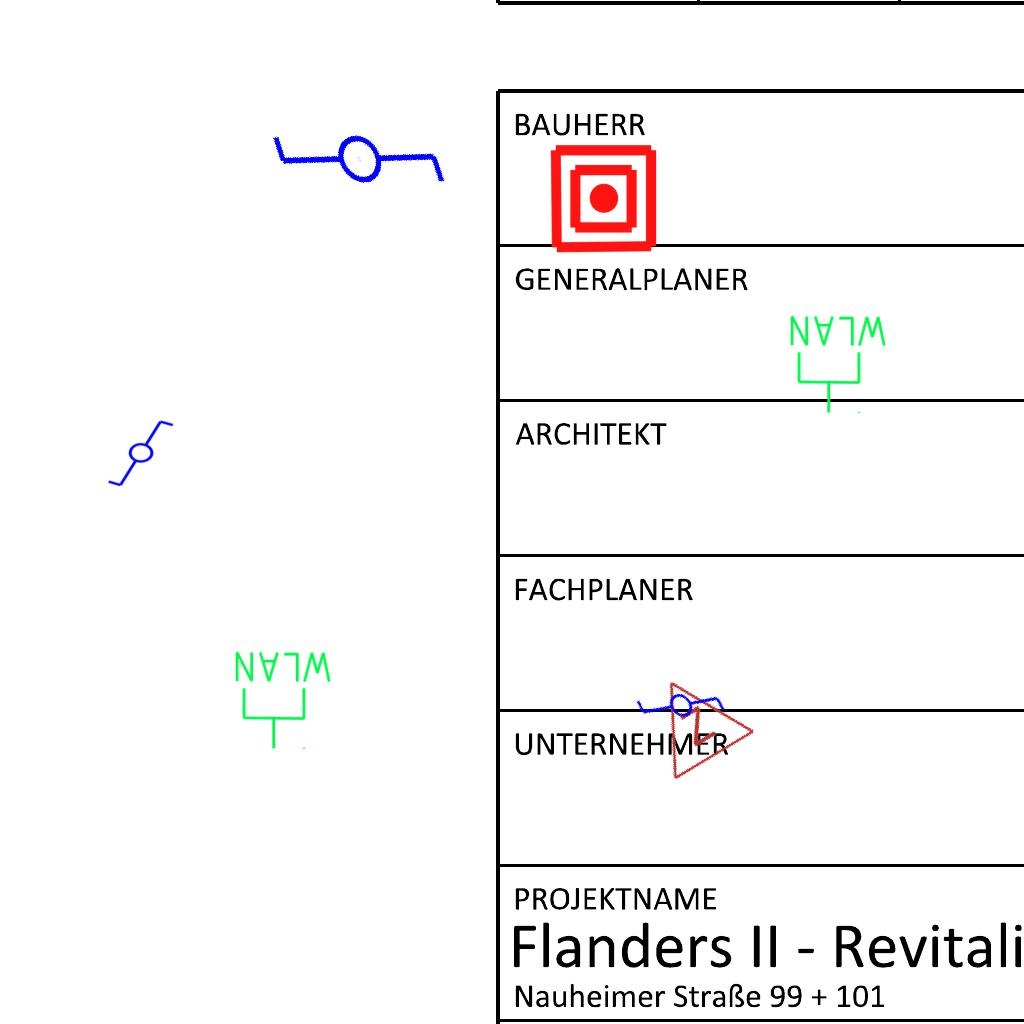NAM-Nichtautomatischer_Melder: (547, 142, 660, 255)
WLAN: (231, 648, 336, 752), (786, 312, 891, 416)
Wechselschalter: (258, 61, 467, 273), (630, 655, 736, 763), (106, 418, 184, 490)
Zimmersignalleuchte: (624, 651, 760, 789)
